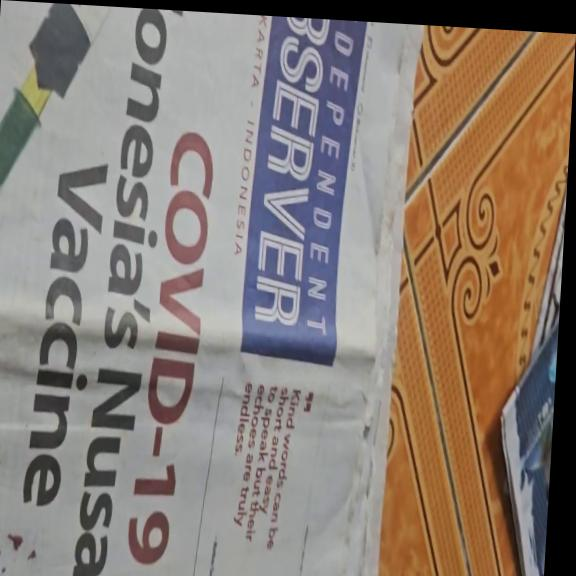Kertas: (0, 4, 420, 576)
